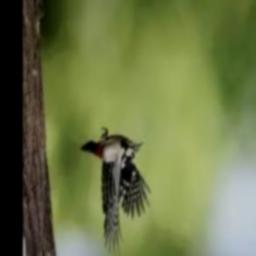Woodpecker: (81, 127, 152, 256)
